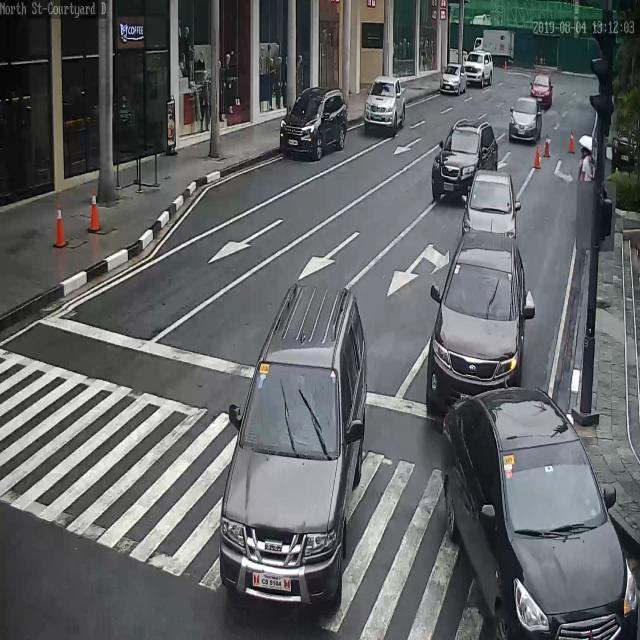car: (440, 387, 640, 640), (219, 281, 368, 611), (427, 233, 528, 421), (430, 118, 498, 198), (280, 85, 350, 161), (462, 167, 518, 238), (363, 75, 408, 131), (509, 96, 542, 141), (612, 120, 640, 172), (464, 49, 494, 84), (530, 72, 553, 109), (440, 62, 466, 94)
motorcycle: (474, 25, 515, 68)
